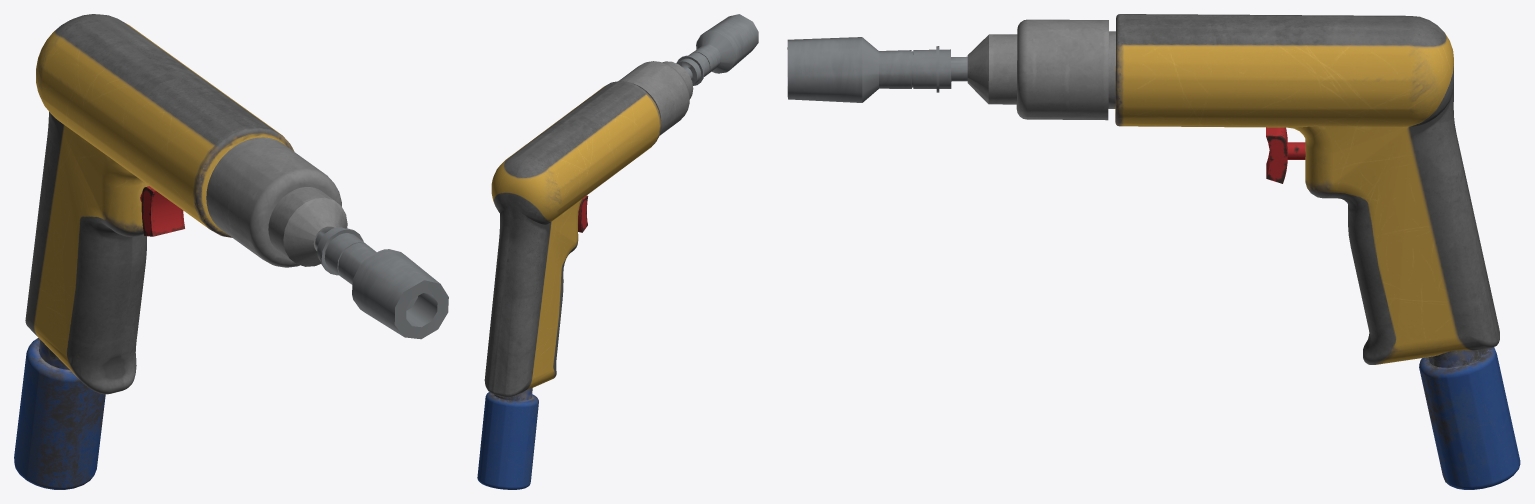
The model's file is Battery Gun pivot fixed.fbx.
3 renders of one model, left to right at view 1: azimuth 30°, elevation 25°; view 2: azimuth 150°, elevation 25°; view 3: azimuth 270°, elevation 25°, orthographic. The views are drawn at different scales.
Visible parts, largest first — view 1: GRIPPER, GEAR_SELECTION_SWITCH, BATTERY, CHUCK, SPEED_CONTROL_TRIGGER; view 2: GRIPPER, BATTERY, CHUCK, GEAR_SELECTION_SWITCH; view 3: GRIPPER, GEAR_SELECTION_SWITCH, BATTERY, CHUCK, SPEED_CONTROL_TRIGGER.
Part boxes in pixels (x1=…): GRIPPER: x1=25, y1=14, x2=294, y2=394; GEAR_SELECTION_SWITCH: x1=206, y1=137, x2=347, y2=267; BATTERY: x1=14, y1=338, x2=105, y2=489; CHUCK: x1=315, y1=227, x2=448, y2=339; SPEED_CONTROL_TRIGGER: x1=140, y1=186, x2=184, y2=236; GRIPPER: x1=484, y1=81, x2=661, y2=397; BATTERY: x1=477, y1=387, x2=538, y2=489; CHUCK: x1=676, y1=14, x2=758, y2=85; GEAR_SELECTION_SWITCH: x1=618, y1=61, x2=693, y2=135; GRIPPER: x1=1115, y1=14, x2=1499, y2=364; GEAR_SELECTION_SWITCH: x1=967, y1=19, x2=1115, y2=120; BATTERY: x1=1419, y1=347, x2=1520, y2=489; CHUCK: x1=787, y1=37, x2=967, y2=102; SPEED_CONTROL_TRIGGER: x1=1266, y1=127, x2=1305, y2=183.
Size of the model in its own units: 0.0406 by 0.1833 by 0.2641.
